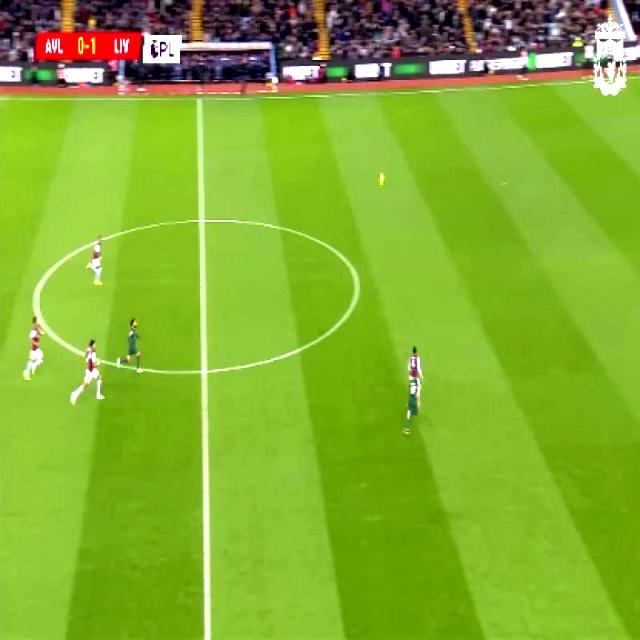halfcircle_bottom: (190, 352, 216, 390)
halfcircle_top: (188, 203, 214, 237)
midline_top_intersection: (189, 86, 208, 111)
